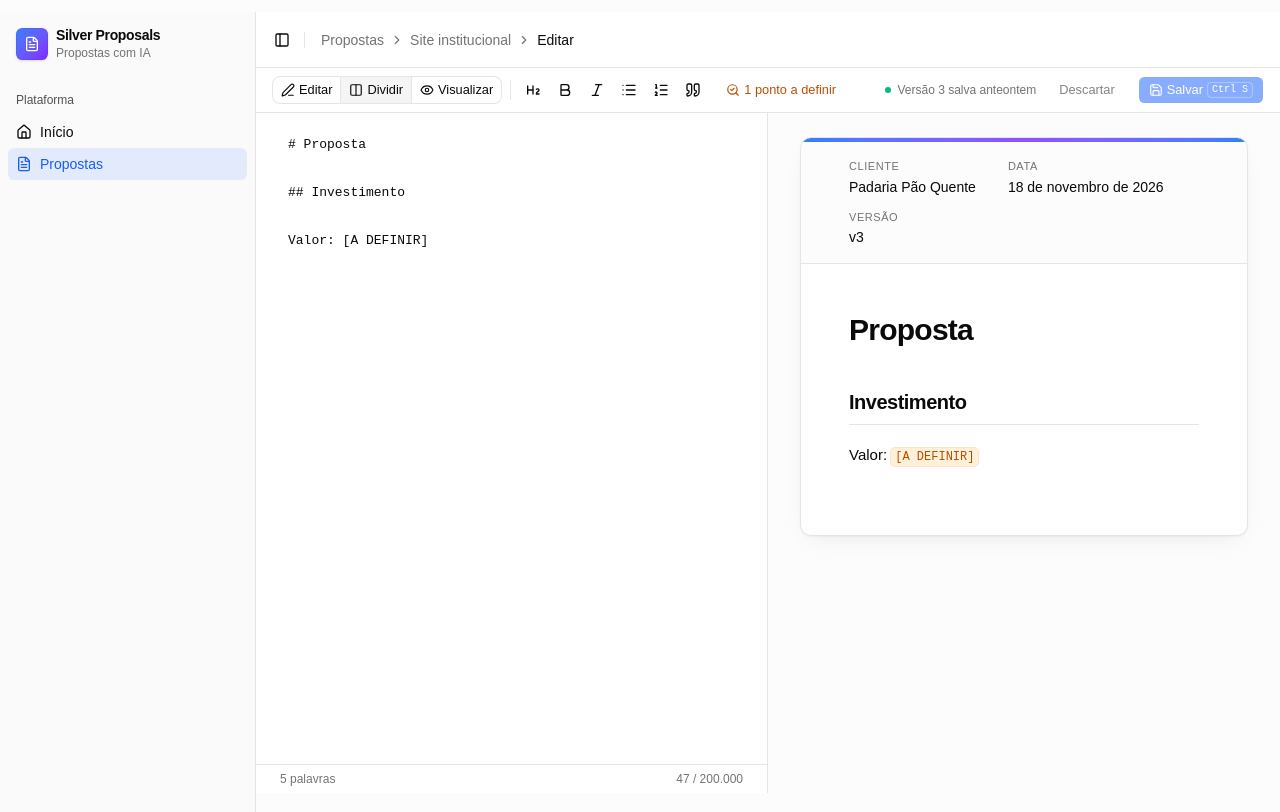
Test: ProposalEditorPage › saves with the loaded version and shows the new one
Type "!" into the text box named "Conteúdo em Markdown" at (512, 438), box x1=256 y1=113 x2=767 y2=764
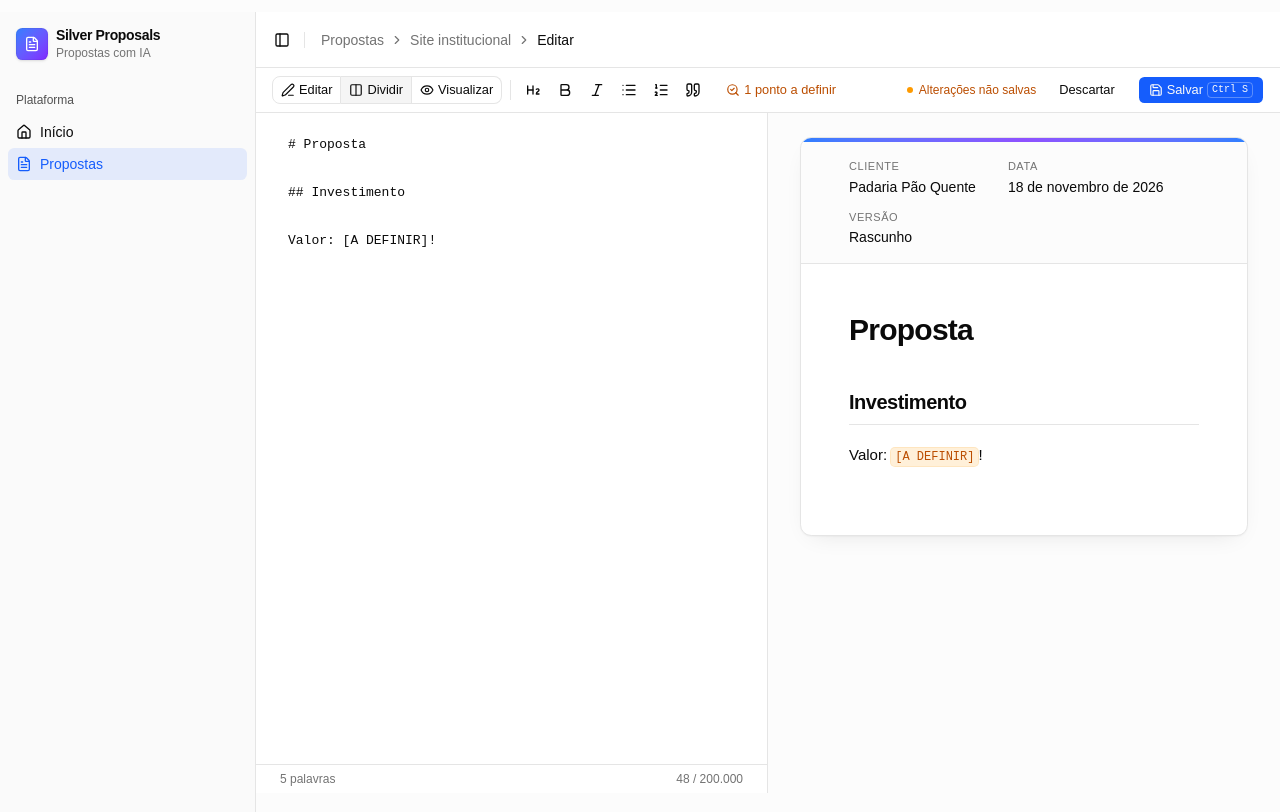
Click the button "Salvar Ctrl S" at (1201, 90), box x1=1138 y1=76 x2=1264 y2=104
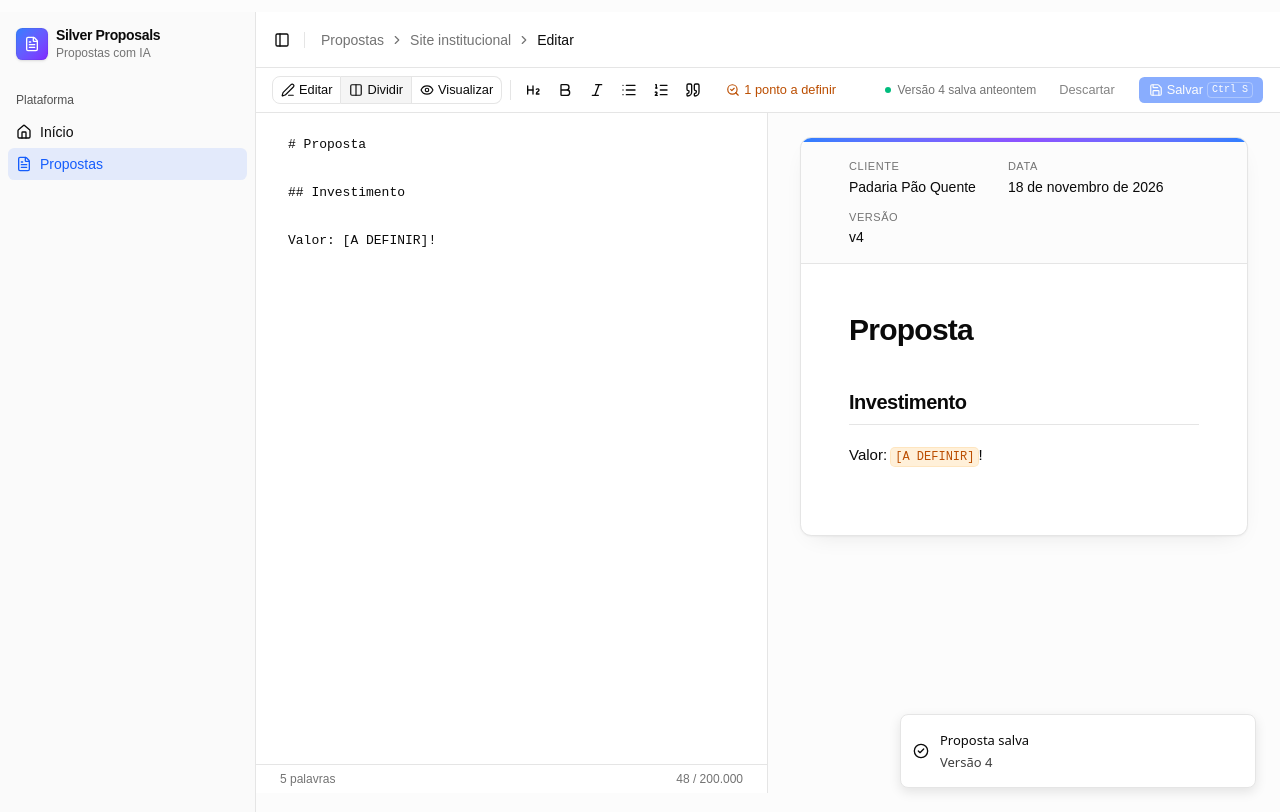
Now the text "Proposta salva" is shown, box x1=940 y1=731 x2=1029 y2=751
Now the text "Versão 4 salva" is shown, box x1=898 y1=83 x2=1036 y2=97
